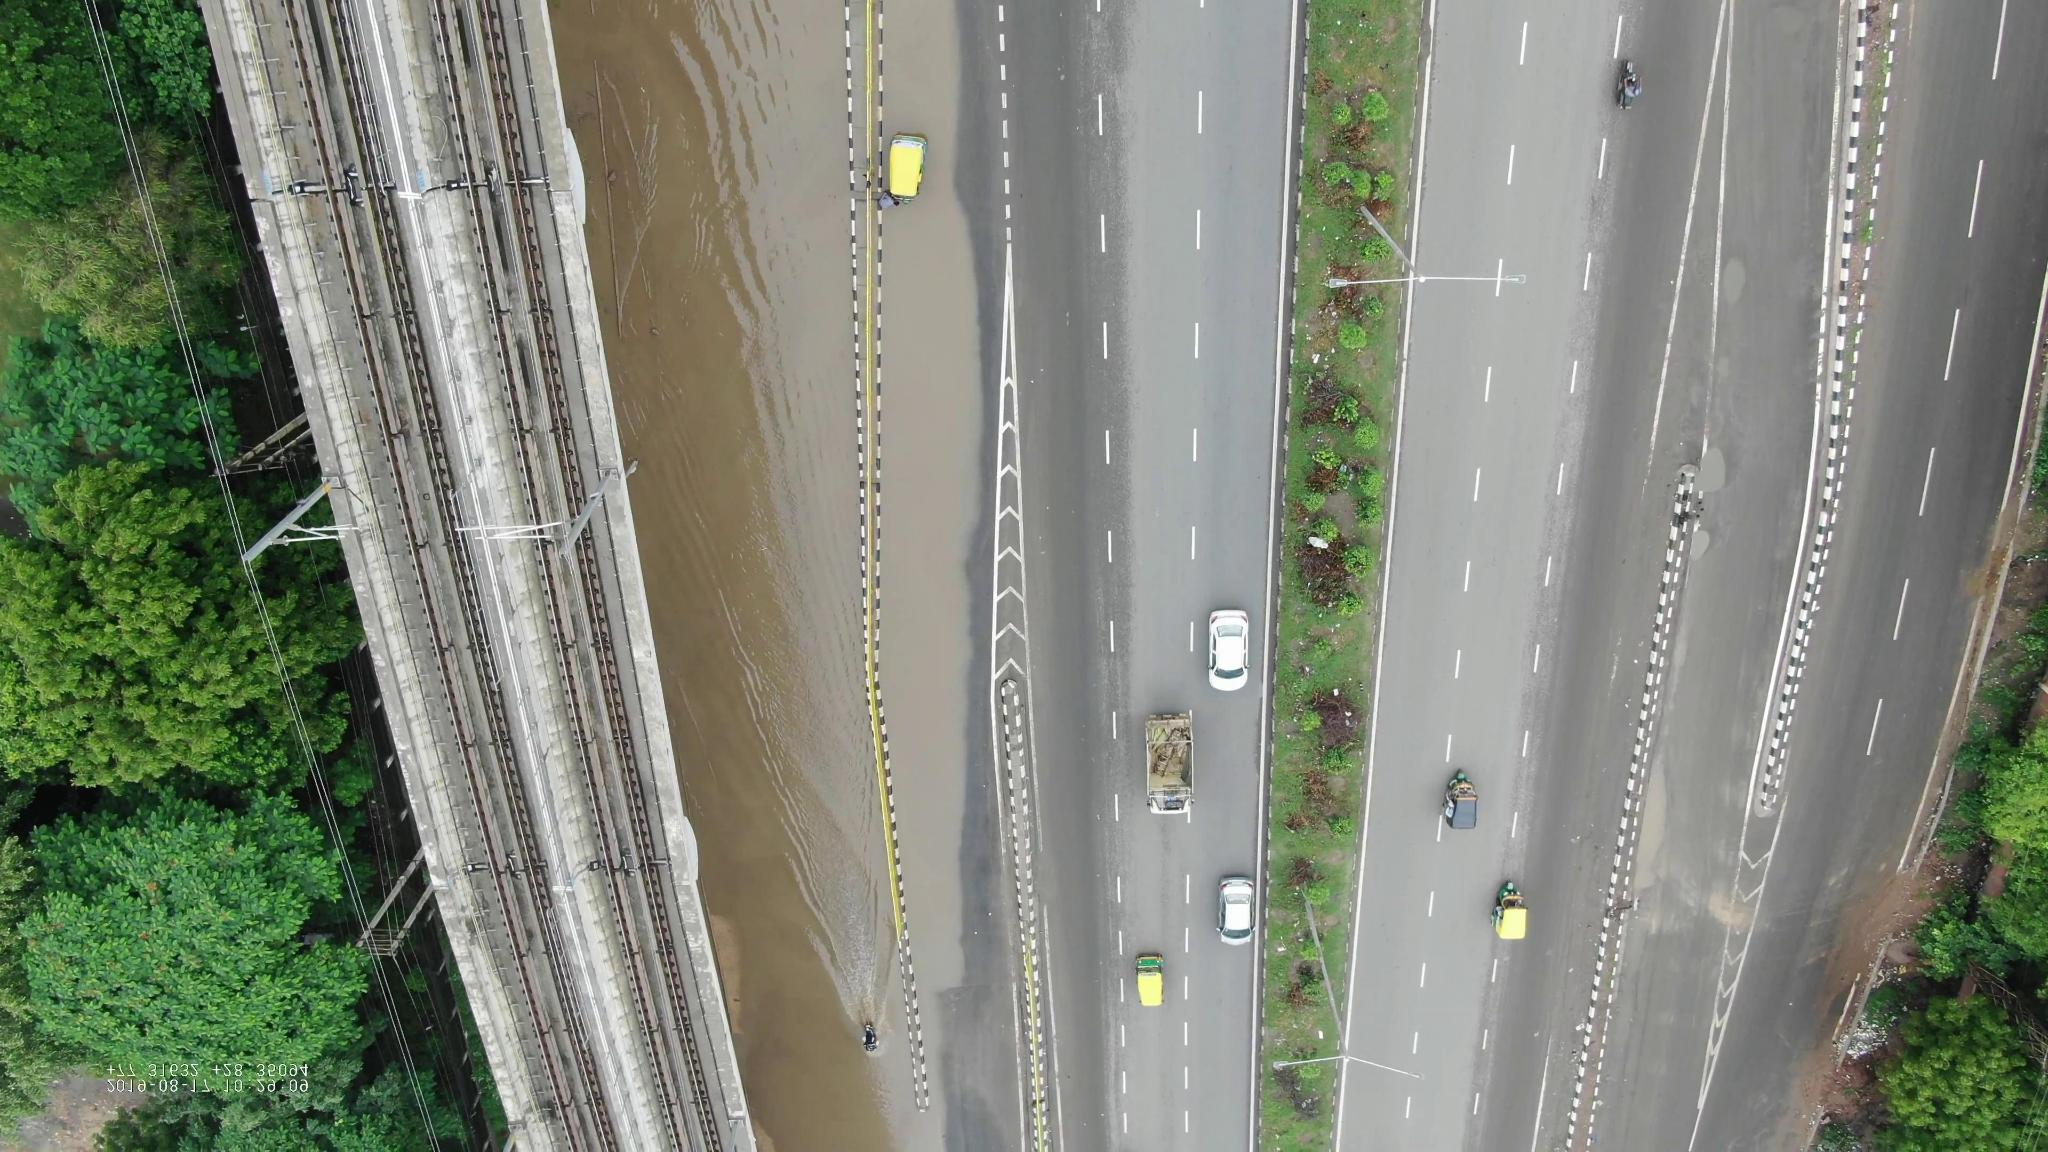Potholes: (1703, 232, 1769, 326), (1684, 426, 1739, 518), (1684, 518, 1724, 577)
Waterlogging: (565, 8, 954, 378), (572, 401, 992, 720), (634, 741, 987, 1031), (1632, 730, 1689, 917)
